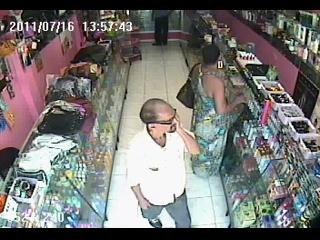Normal: (126, 98, 202, 228), (189, 44, 248, 178), (176, 62, 201, 109), (151, 10, 173, 46), (121, 46, 142, 64)
